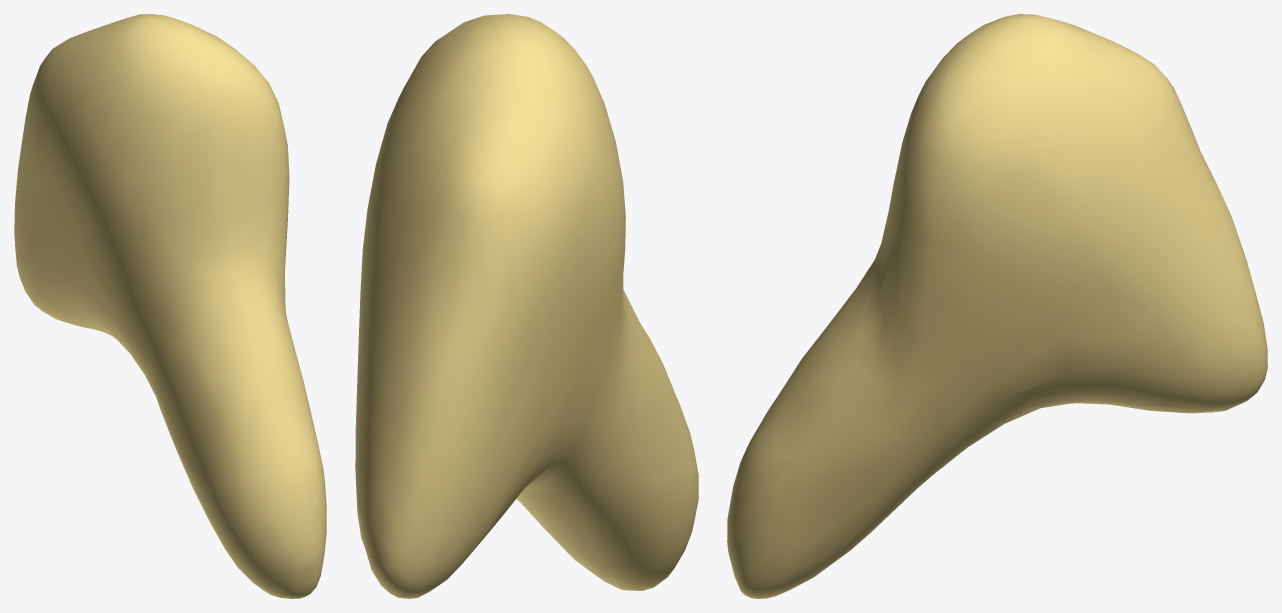
The model's file is fma73340_mm2965.glb.
The picture shows the model from 3 angles, left to right: view 1: azimuth 30°, elevation 25°; view 2: azimuth 150°, elevation 25°; view 3: azimuth 270°, elevation 25°; orthographic projection. The views are drawn at different scales.
Visible parts, largest first — view 1: FMA73340_MM2965; view 2: FMA73340_MM2965; view 3: FMA73340_MM2965.
Part boxes in pixels (box(x1,y1,x2,y2)): FMA73340_MM2965: box(14, 14, 326, 598); FMA73340_MM2965: box(355, 14, 698, 598); FMA73340_MM2965: box(727, 14, 1267, 598).
Bounding box in the file's own units: 0.00278 × 0.00752 × 0.00653.
